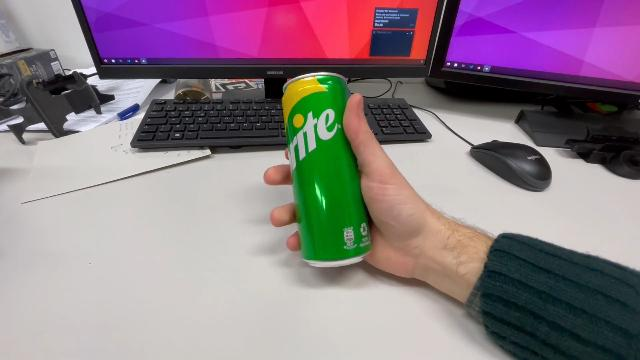Sprite: (279, 69, 377, 269)
